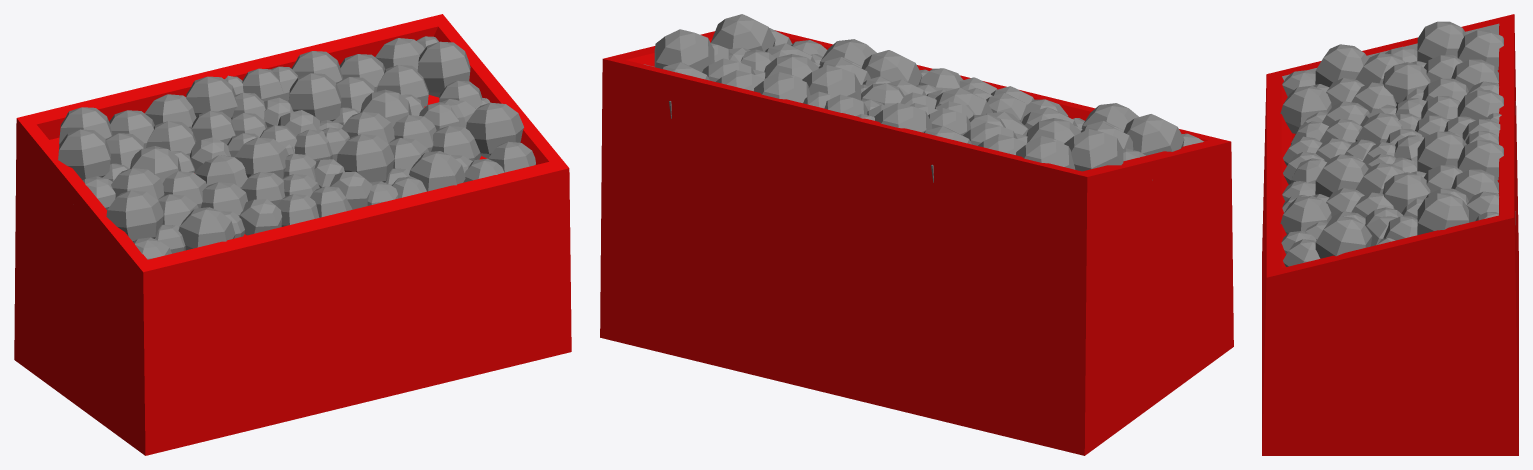
The model's file is Mini_ShopApples.fbx.
3 views of the same model, side by side, from view 1: azimuth 30°, elevation 25°; view 2: azimuth 150°, elevation 25°; view 3: azimuth 270°, elevation 25° (orthographic). The views are drawn at different scales.
Visible parts, largest first — view 1: pSphere149; view 2: pSphere149; view 3: pSphere149.
Part boxes in pixels (bbox=[...]): pSphere149: bbox=[14, 14, 571, 455]; pSphere149: bbox=[600, 14, 1233, 455]; pSphere149: bbox=[1262, 14, 1518, 455].
Bounding box in the file's own units: 5.99 × 3.36 × 3.19.
